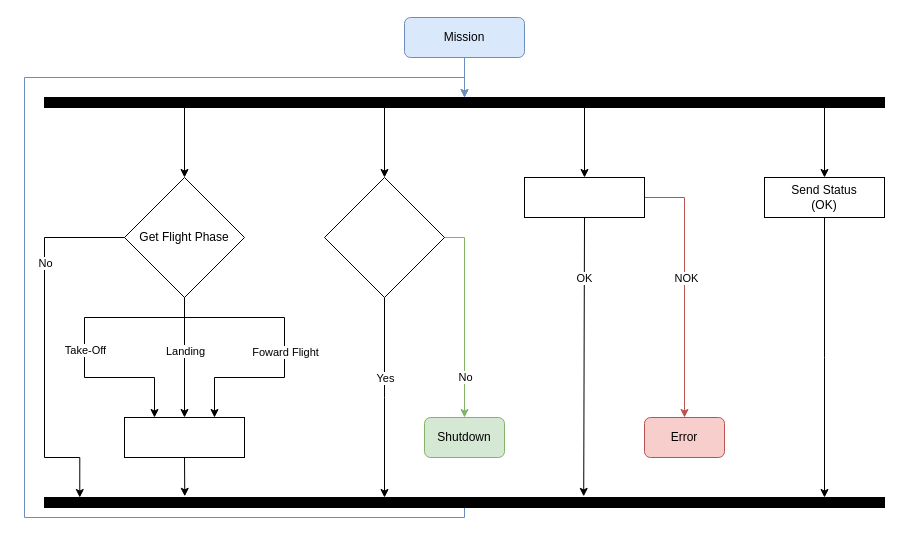
Some shapes in this 902 by 543 pixel diagram are drawn without their labels. The shapes that lost their labels are listed below. From the top down, each one's box as (x1, y1, x2, y2) in pixels, then its label:
(524, 176, 644, 218): Get SDU status
(324, 176, 444, 298): Get Heartbeat form FC
(124, 416, 244, 458): Send pitch command
